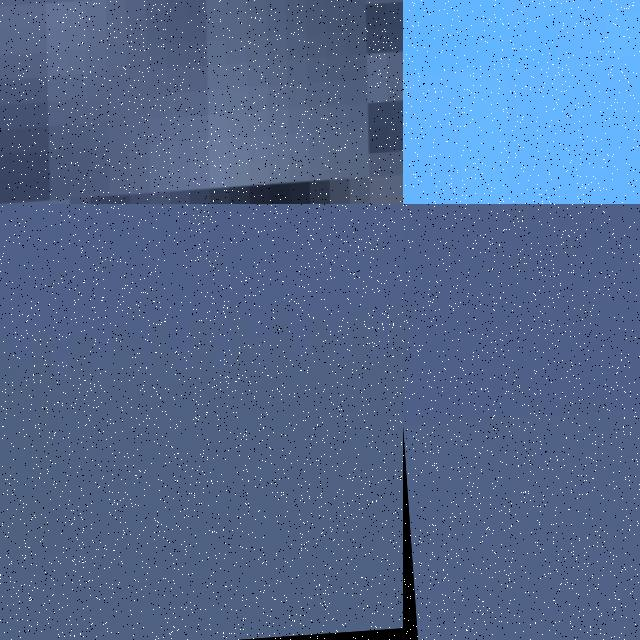0: (0, 0, 403, 204)
drone: (403, 0, 640, 204)
